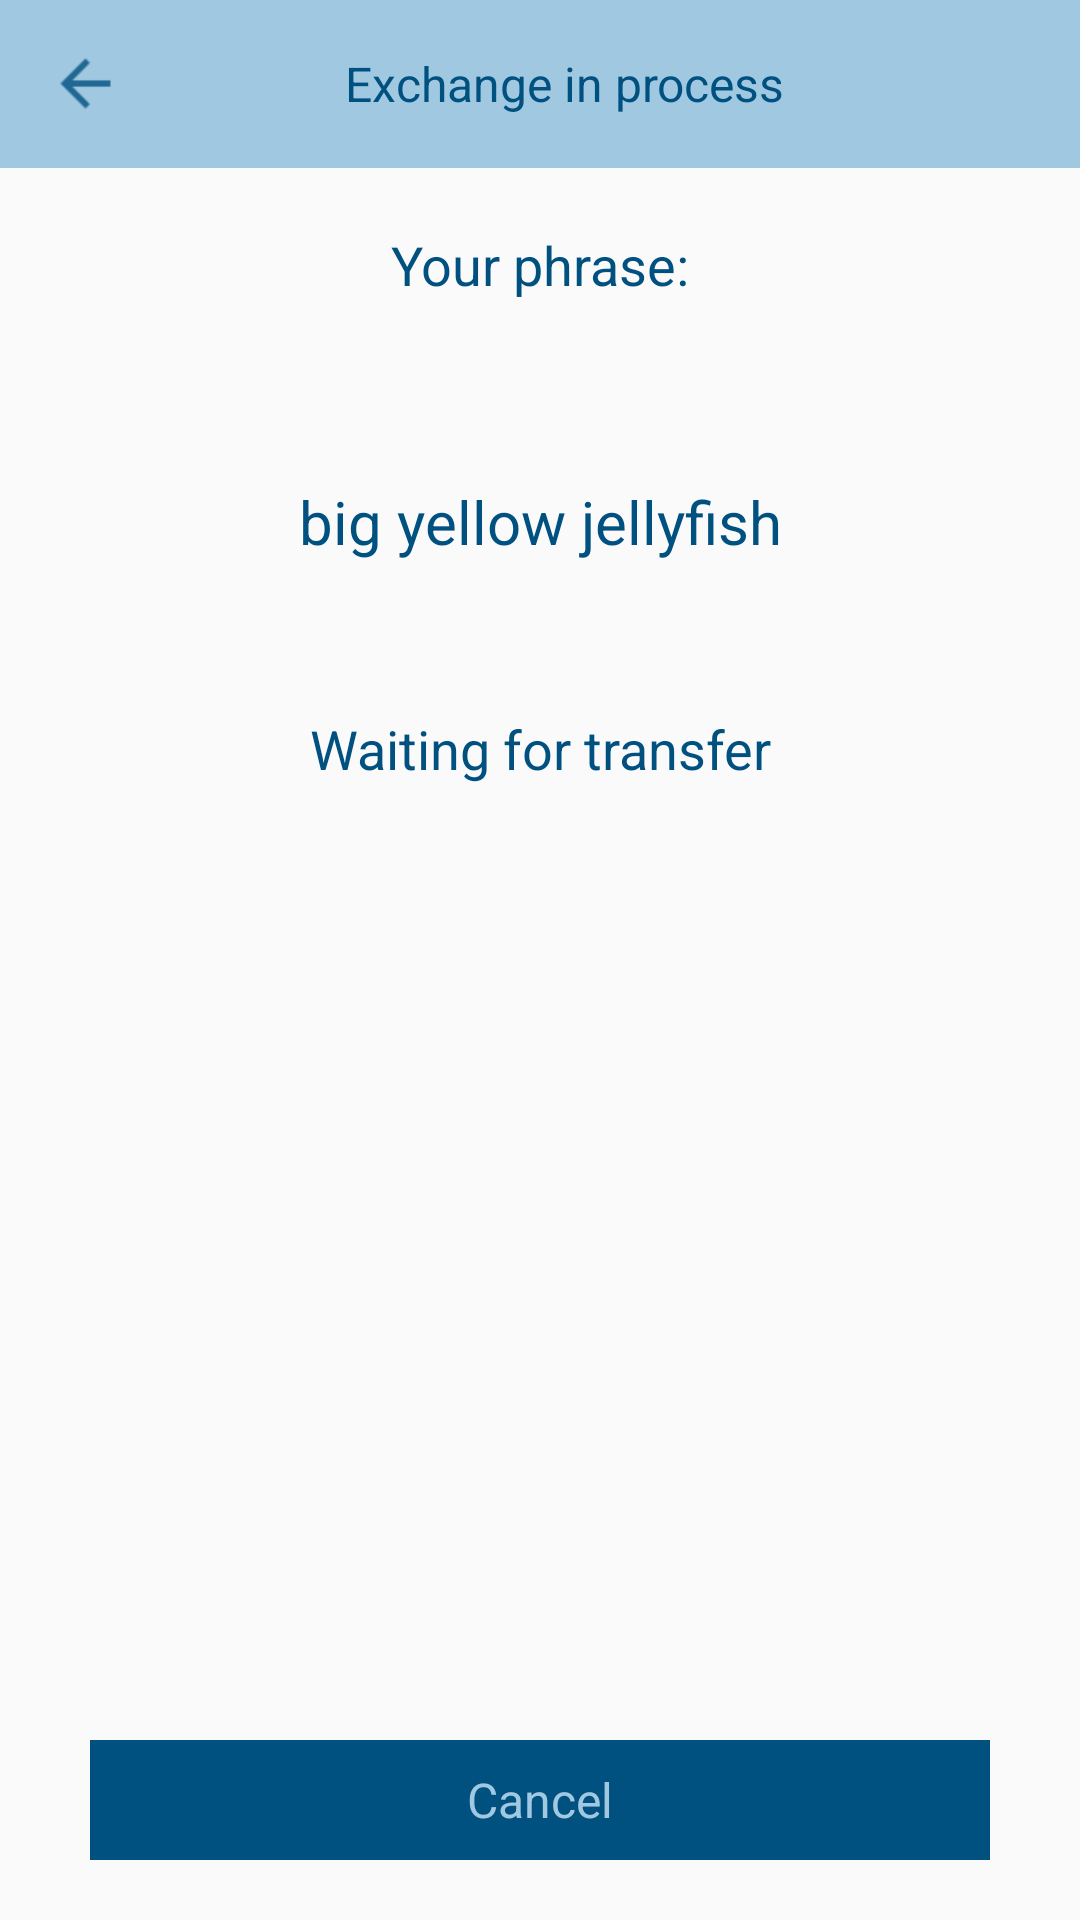

Icon bounding boxes for this 1080*1920 phone screenshot, format (x1, y1, x2, y2):
arrow back: (60, 58, 111, 109)
